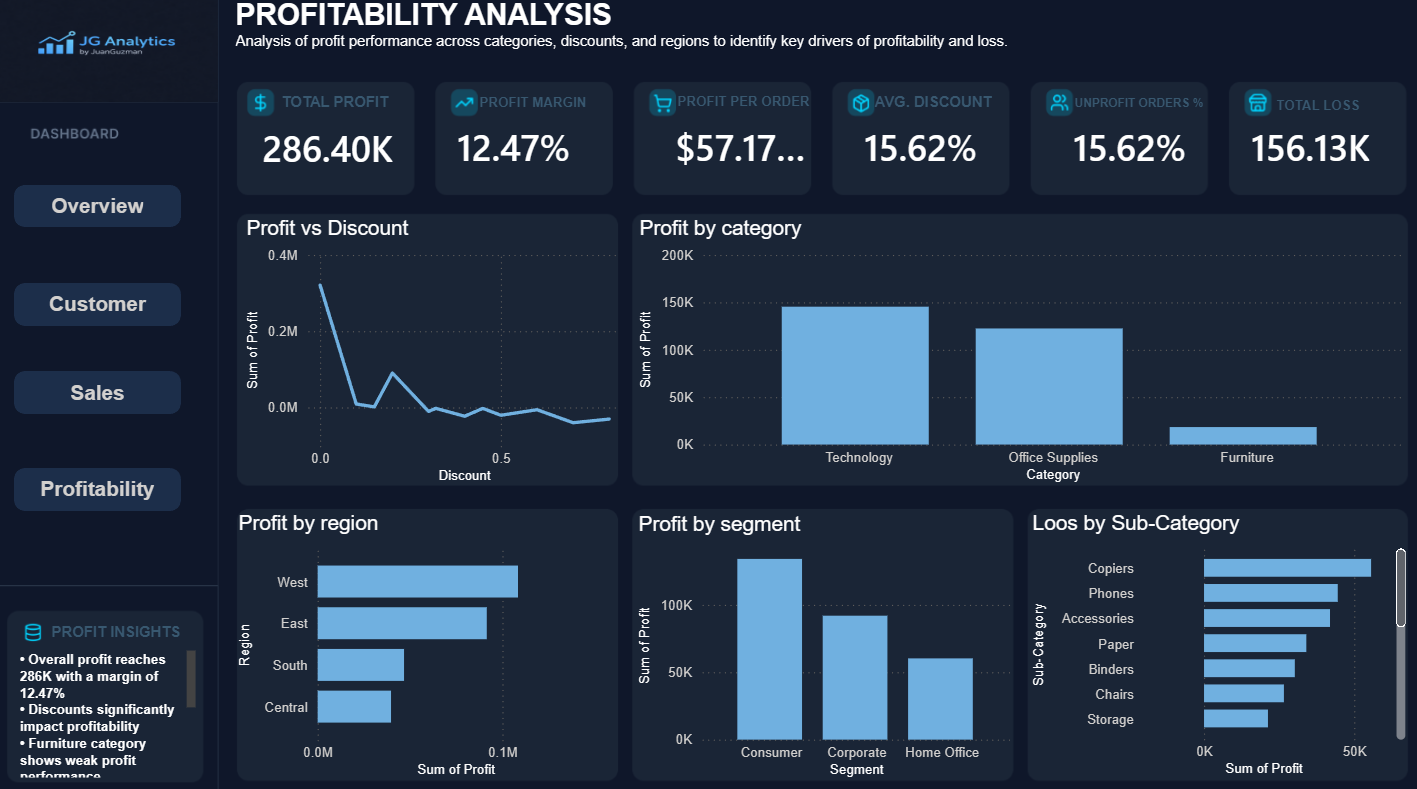

The page's visual inventory and layout, read from the dashboard file:
{"tool":"powerbi","page":{"name":"Profitability Analysis","canvas":[1280,720],"ordinal":3},"visuals":[{"type":"image","box":[0,0,201.3,98.2],"z":0},{"type":"group","id":"g1","title":"Group 1","box":[18,172.4,149.9,38.6],"z":1000},{"type":"shape","box":[18,172.4,149.9,37.7],"z":1000,"group":"g1"},{"type":"actionButton","title":"PROFITABILITY","box":[18,172.4,149.9,38.6],"z":2000,"group":"g1"},{"type":"group","id":"g2","title":"Group 2","box":[18,260.3,149.9,38.6],"z":2000},{"type":"shape","box":[18,260.3,149.9,38.6],"z":3000,"group":"g2"},{"type":"group","id":"g3","title":"Group 3","box":[18,339.4,149.9,39.5],"z":3000},{"type":"shape","box":[18,339.4,149.9,38.6],"z":4000,"group":"g3"},{"type":"group","id":"g4","title":"Group 4","box":[18,426.4,149.9,38.6],"z":4000},{"type":"textbox","box":[211.9,0,728.1,77.2],"z":5000},{"type":"shape","box":[18,426.4,149.9,38.6],"z":5000,"group":"g4"},{"type":"cardVisual","fields":{"Data":["Superstore sales dataset.Total Profit"]},"box":[211.7,85.3,202.2,102.5],"z":6000},{"type":"actionButton","title":"PROFITABILITY","box":[18,260.3,149.9,38.6],"z":6000,"group":"g2"},{"type":"textbox","box":[252.9,85.3,133.2,25.9],"z":7000},{"type":"actionButton","title":"PROFITABILITY","box":[18,340.3,149.9,38.6],"z":7000,"group":"g3"},{"type":"cardVisual","fields":{"Data":["Superstore sales dataset.Profit Margin by Category"]},"box":[387.1,88.1,180.1,97.7],"z":8000},{"type":"actionButton","title":"PROFITABILITY","box":[18,426.4,149.9,38.6],"z":8000,"group":"g4"},{"type":"textbox","box":[430.9,85.3,151.7,26],"z":9000},{"type":"cardVisual","fields":{"Data":["Superstore sales dataset.Total Loss"]},"box":[1099.9,88.1,180.1,97.7],"z":10000},{"type":"textbox","box":[1146.2,88,133.8,26],"z":11000},{"type":"cardVisual","fields":{"Data":["Superstore sales dataset.Profit per Order"]},"box":[582.6,88,184.9,97.9],"z":12000},{"type":"textbox","box":[608.7,84.4,138.3,26],"z":13000},{"type":"cardVisual","fields":{"Data":["Superstore sales dataset.Average Discount"]},"box":[939.9,88.1,180.1,97.7],"z":13000,"group":"g5"},{"type":"textbox","box":[965.1,85.1,170.6,25.1],"z":14000,"group":"g5"},{"type":"cardVisual","fields":{"Data":["Superstore sales dataset.Average Discount"]},"box":[752.1,88.1,180.1,97.7],"z":14000},{"type":"textbox","box":[785.5,85.3,138.3,26],"z":15000},{"type":"group","id":"g5","title":"Group 5","box":[939.9,85.1,195.8,100.8],"z":16000},{"type":"lineChart","title":"Profit vs Discount","fields":{"Category":["Superstore sales dataset.Discount"],"Y":["Sum(Superstore sales dataset.Profit)"]},"box":[221.7,200.2,345.6,245.1],"z":17000},{"type":"columnChart","title":"Profit by category","fields":{"Category":["Superstore sales dataset.Category"],"Y":["Sum(Superstore sales dataset.Profit)"]},"box":[574.6,200.2,694.9,244.2],"z":18000},{"type":"barChart","title":"Profit by region","fields":{"Category":["Superstore sales dataset.Region"],"Y":["Sum(Superstore sales dataset.Profit)"]},"box":[214.6,465,343.8,244.2],"z":19000},{"type":"columnChart","title":"Profit by segment","fields":{"Category":["Superstore sales dataset.Segment"],"Y":["Sum(Superstore sales dataset.Profit)"]},"box":[573.9,465.6,344,243.4],"z":20000},{"type":"barChart","title":"Loss by Sub-Category","fields":{"Category":["Superstore sales dataset.Sub-Category"],"Y":["Sum(Superstore sales dataset.Profit)"]},"box":[927.4,465,344.7,243.3],"z":21000},{"type":"textbox","box":[46.7,561.1,139.2,26],"z":22000},{"type":"textbox","box":[18,585.3,167.9,123.9],"z":23000}]}

Visuals, with their boxes on the page's 1280x720 design canvas (x1, y1, x2, y2). These are canvas units, not pixel positions in the 1417x789 screenshot, which may show the page scaled, cropped or inside an application window:
image: bbox(0, 0, 201, 98)
"Group 1" group: bbox(18, 172, 168, 211)
shape: bbox(18, 172, 168, 210)
"PROFITABILITY" actionButton: bbox(18, 172, 168, 211)
"Group 2" group: bbox(18, 260, 168, 299)
shape: bbox(18, 260, 168, 299)
"Group 3" group: bbox(18, 339, 168, 379)
shape: bbox(18, 339, 168, 378)
"Group 4" group: bbox(18, 426, 168, 465)
textbox: bbox(212, 0, 940, 77)
shape: bbox(18, 426, 168, 465)
cardVisual - Superstore sales dataset.Total Profit: bbox(212, 85, 414, 188)
"PROFITABILITY" actionButton: bbox(18, 260, 168, 299)
textbox: bbox(253, 85, 386, 111)
"PROFITABILITY" actionButton: bbox(18, 340, 168, 379)
cardVisual - Superstore sales dataset.Profit Margin by Category: bbox(387, 88, 567, 186)
"PROFITABILITY" actionButton: bbox(18, 426, 168, 465)
textbox: bbox(431, 85, 583, 111)
cardVisual - Superstore sales dataset.Total Loss: bbox(1100, 88, 1280, 186)
textbox: bbox(1146, 88, 1280, 114)
cardVisual - Superstore sales dataset.Profit per Order: bbox(583, 88, 768, 186)
textbox: bbox(609, 84, 747, 110)
cardVisual - Superstore sales dataset.Average Discount: bbox(940, 88, 1120, 186)
textbox: bbox(965, 85, 1136, 110)
cardVisual - Superstore sales dataset.Average Discount: bbox(752, 88, 932, 186)
textbox: bbox(786, 85, 924, 111)
"Group 5" group: bbox(940, 85, 1136, 186)
"Profit vs Discount" lineChart: bbox(222, 200, 567, 445)
"Profit by category" columnChart: bbox(575, 200, 1270, 444)
"Profit by region" barChart: bbox(215, 465, 558, 709)
"Profit by segment" columnChart: bbox(574, 466, 918, 709)
"Loss by Sub-Category" barChart: bbox(927, 465, 1272, 708)
textbox: bbox(47, 561, 186, 587)
textbox: bbox(18, 585, 186, 709)
